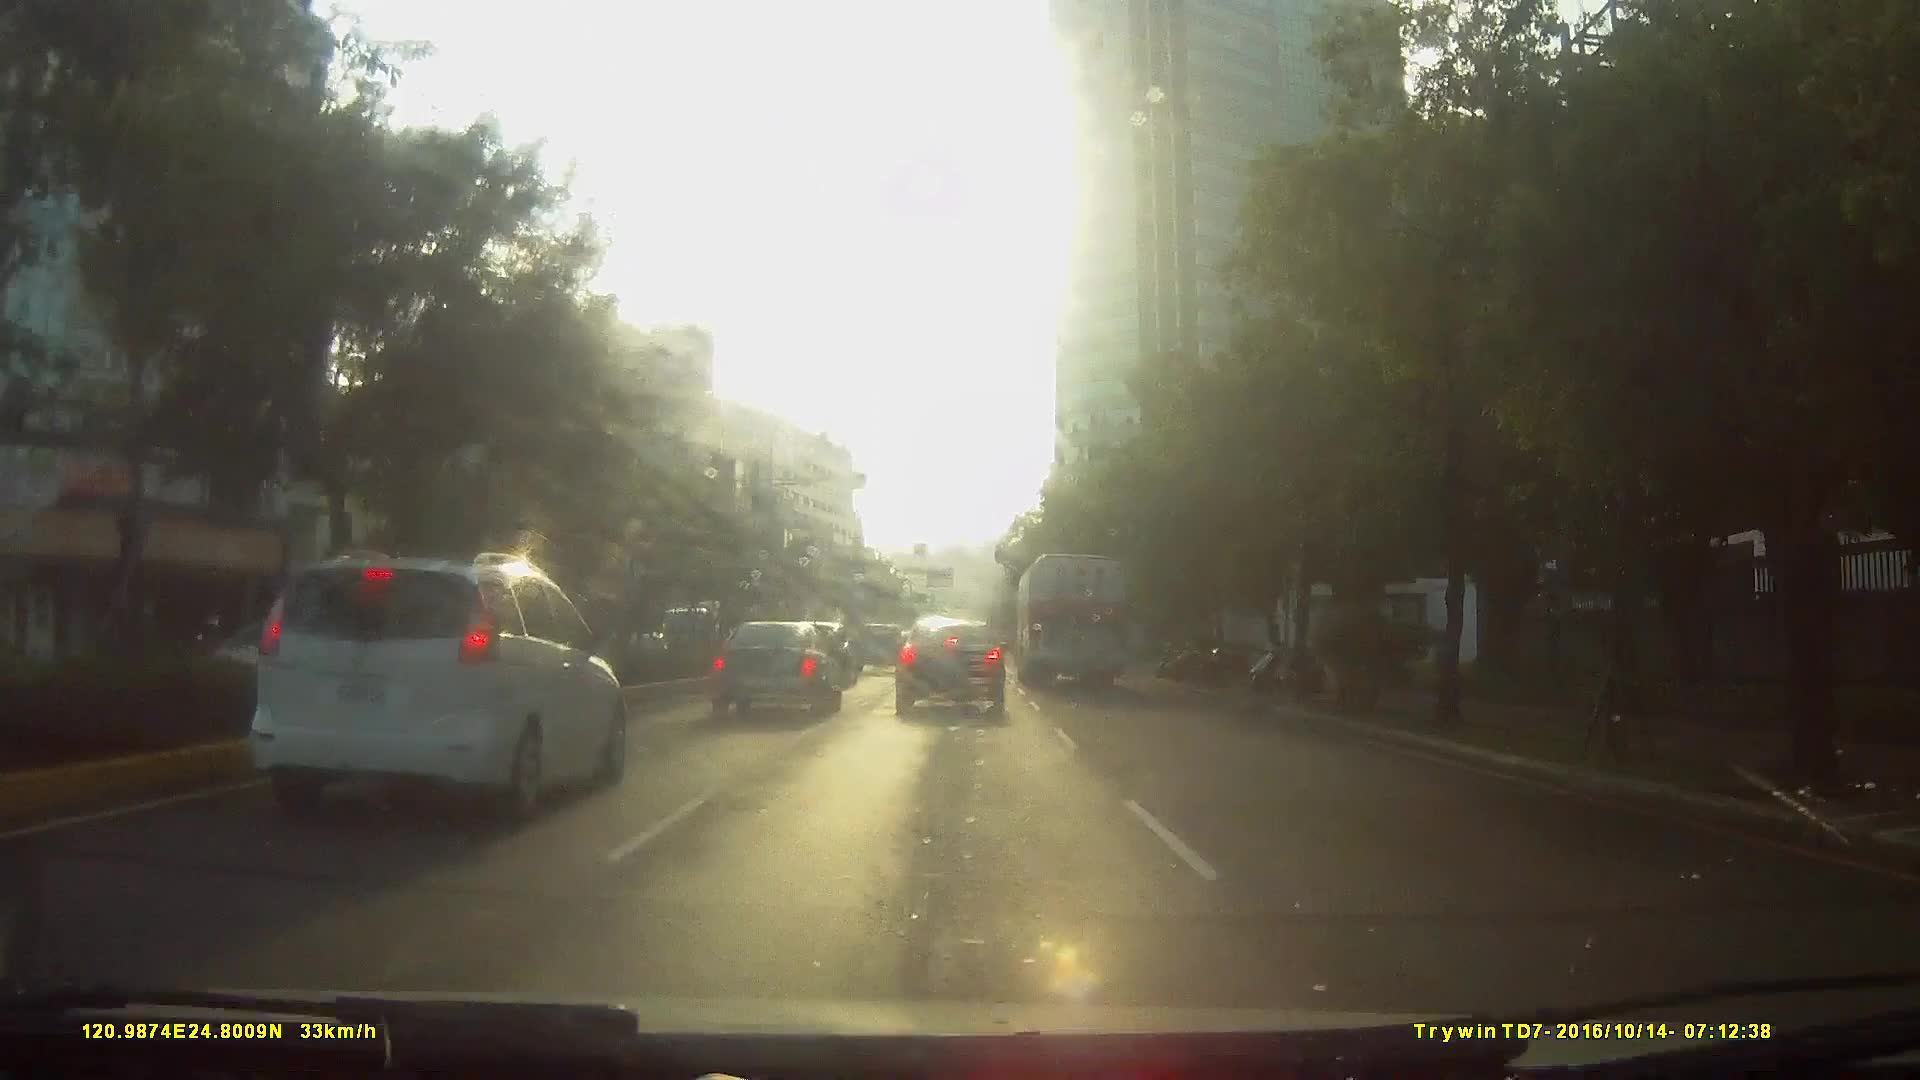vehicle: (251, 556, 684, 868), (222, 546, 636, 831), (1014, 547, 1131, 688), (705, 615, 845, 717), (894, 609, 1009, 717), (849, 616, 906, 674)
